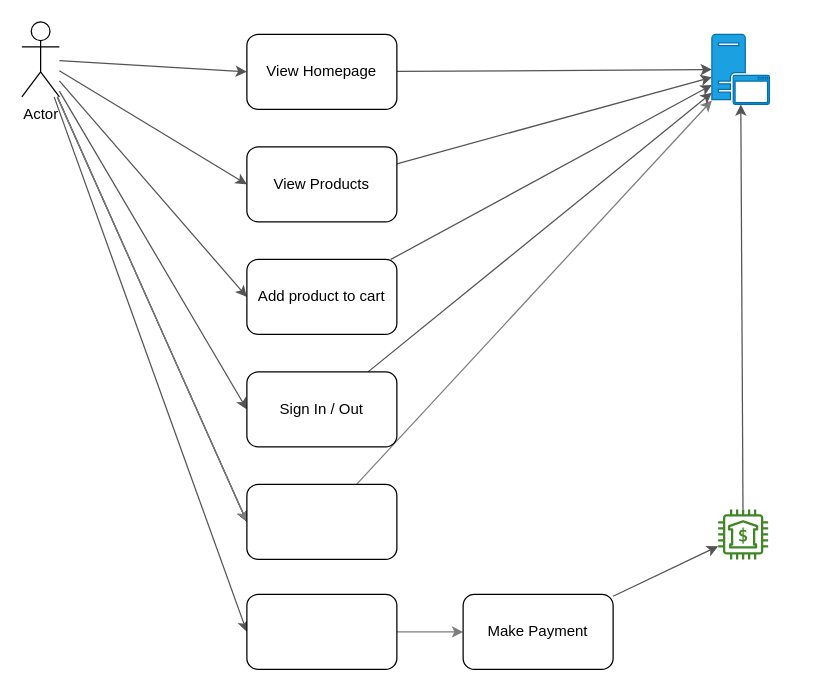
Some shapes in this 820 by 691 pixel diagram are drawn without their labels. The centre of each missing label's shape, as x and y in pixels:
"Make checkout" belongs at [321,631].
"Payment service" belongs at [743,534].
"View Orders" belongs at [321,521].
